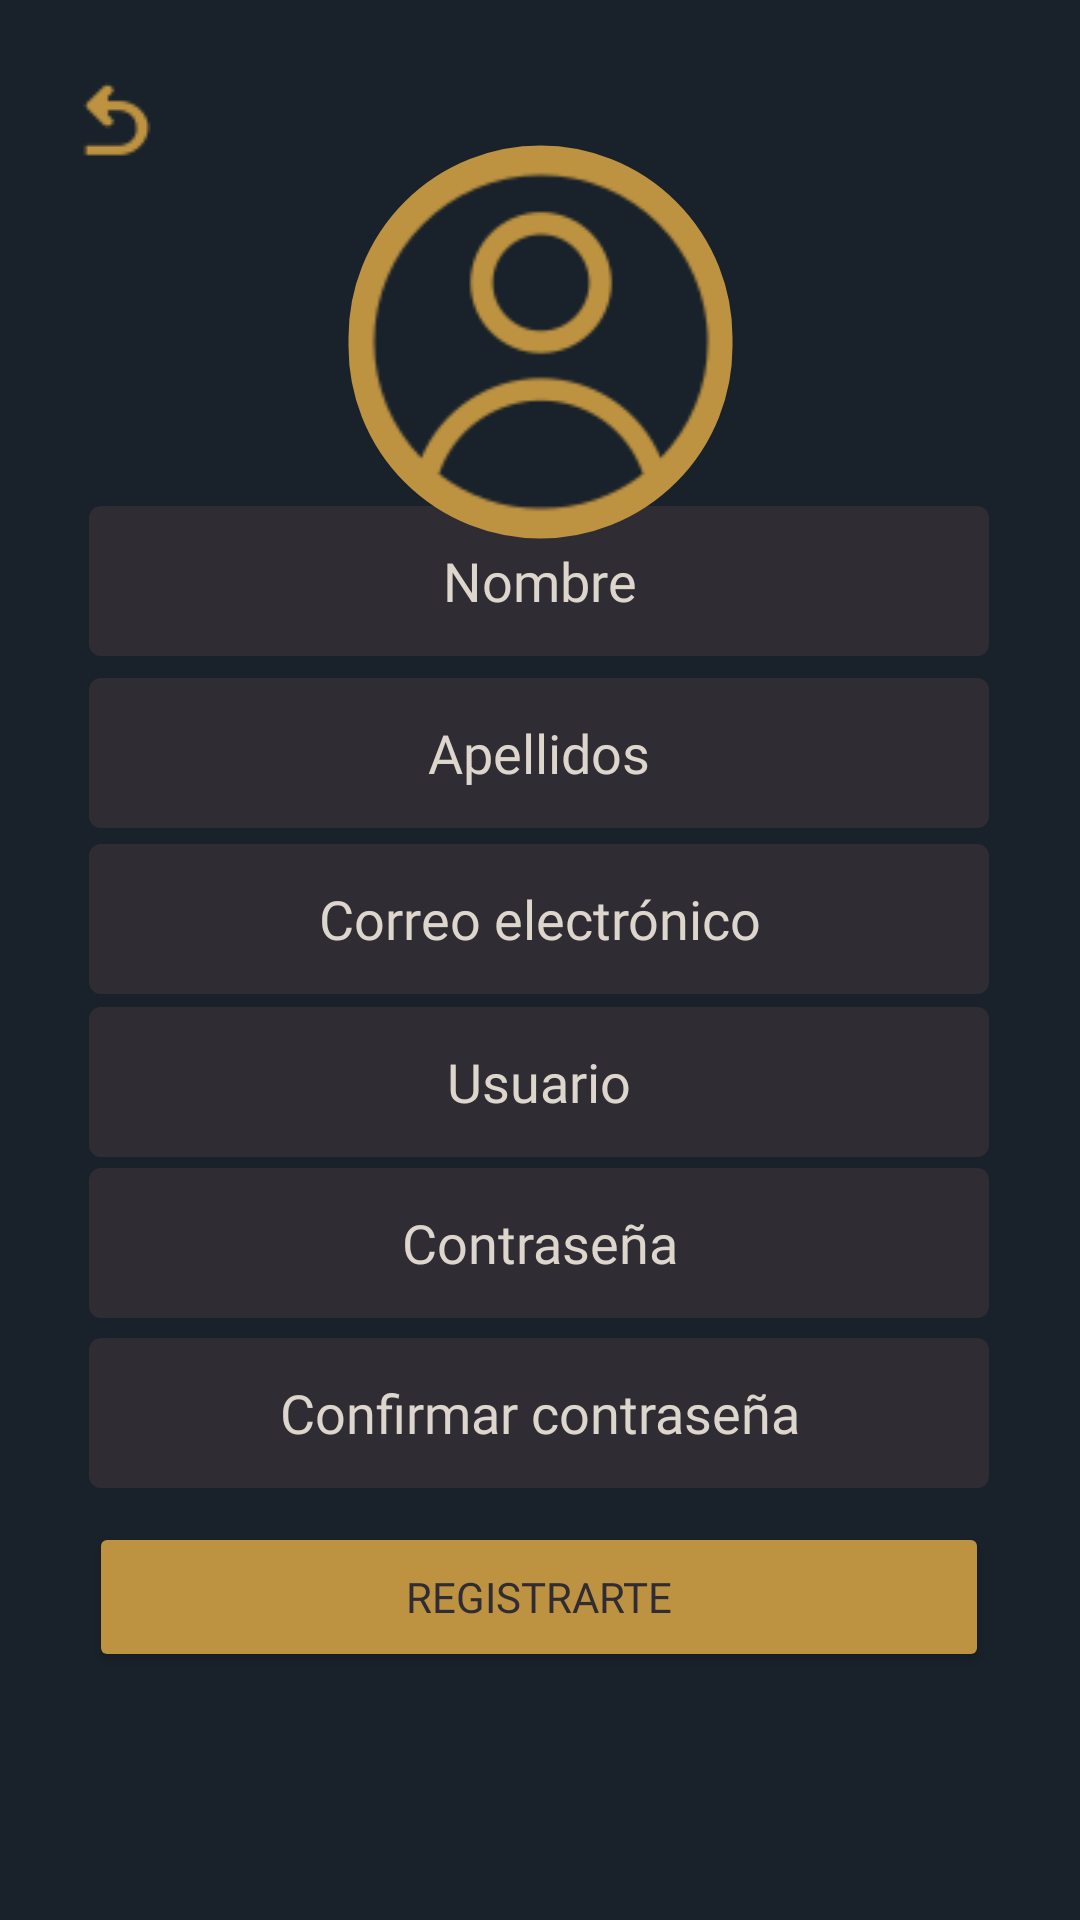

Icons on this 1080*1920 Android screen, each with its box as (x1, y1, x2, y2):
Boton para volver al login: (84, 85, 150, 156)
